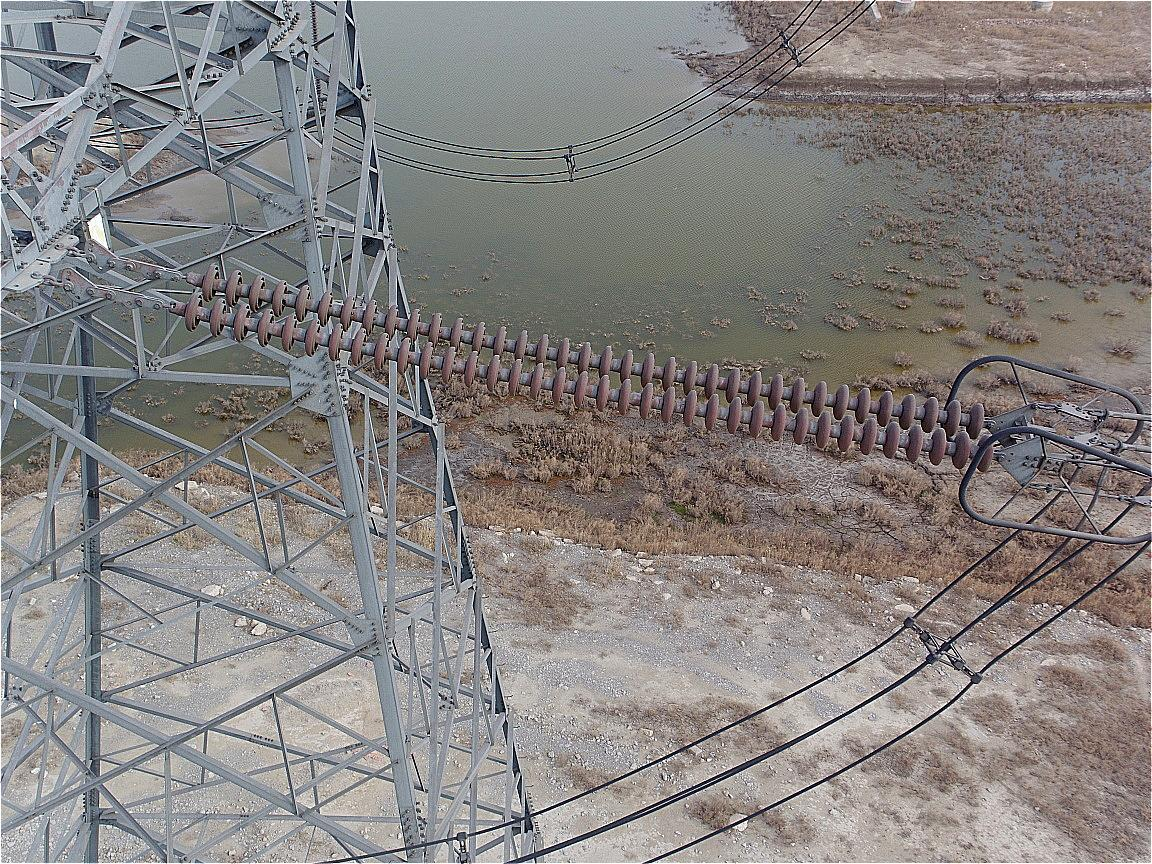insultor1: (171, 245, 1014, 488)
